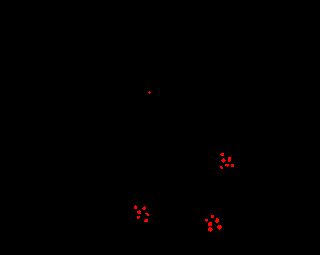Target: (221, 158, 226, 163), (217, 225, 222, 230), (208, 227, 213, 232), (215, 218, 219, 223), (142, 206, 146, 210), (137, 210, 141, 214), (208, 222, 212, 226), (228, 157, 231, 162), (220, 153, 224, 156), (225, 164, 229, 167), (134, 205, 137, 209), (145, 213, 149, 216), (144, 219, 148, 222), (148, 91, 151, 94), (231, 164, 234, 167), (220, 166, 223, 169), (211, 215, 214, 218), (137, 216, 140, 219), (205, 219, 208, 222)
